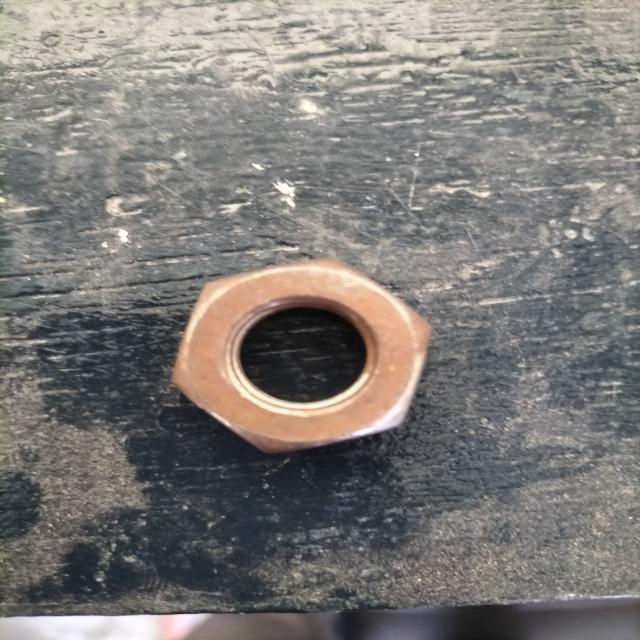nuts: (171, 258, 433, 454)
